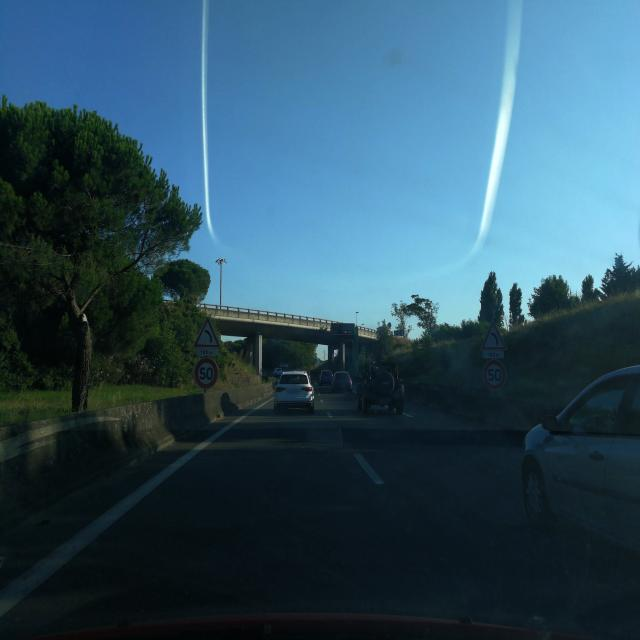car: (520, 361, 640, 597), (356, 361, 404, 415), (273, 370, 315, 414), (331, 370, 353, 393), (319, 368, 333, 386)
